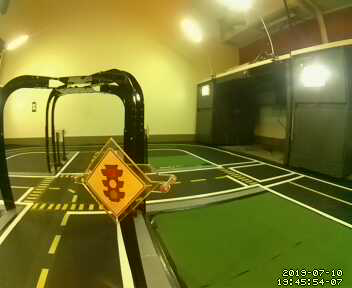Traffic light sign: (86, 148, 146, 221)
